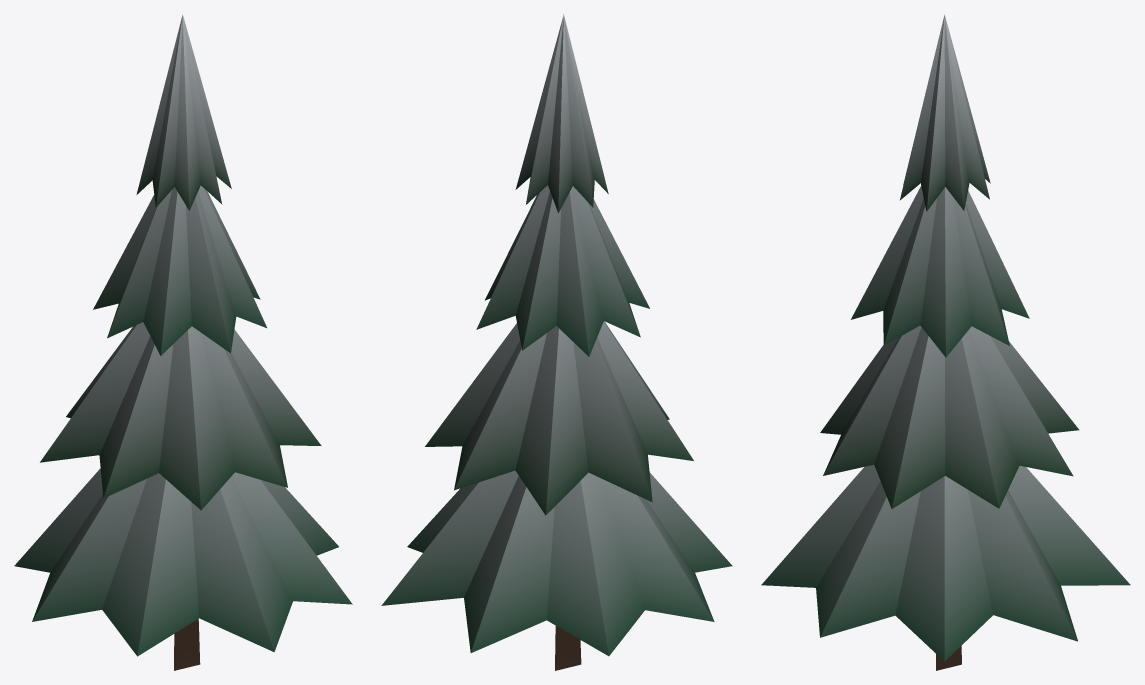
File: spruce_far.glb
The picture shows the model from 3 angles, left to right: view 1: azimuth 30°, elevation 25°; view 2: azimuth 150°, elevation 25°; view 3: azimuth 270°, elevation 25°; orthographic projection.
Parts seen in each view (by area): view 1: spruce_far; view 2: spruce_far; view 3: spruce_far.
Part boxes in pixels (x1,y1,x2,y2): spruce_far: [14, 14, 352, 670]; spruce_far: [381, 14, 732, 670]; spruce_far: [761, 14, 1130, 670].
Bounding box in the file's own units: 4.06 × 8.2 × 4.22.
